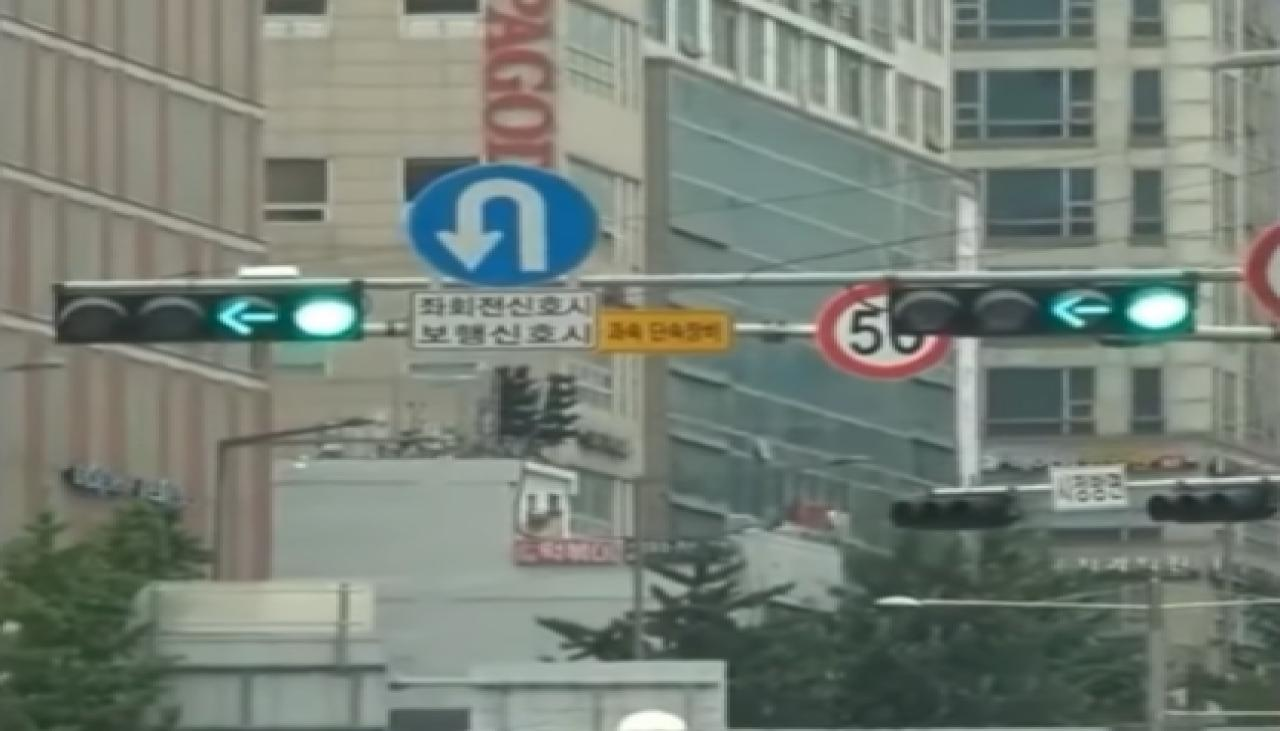Green Light: (1122, 280, 1195, 335), (285, 290, 362, 339)
Left turn: (1037, 281, 1122, 336), (207, 289, 277, 345)
